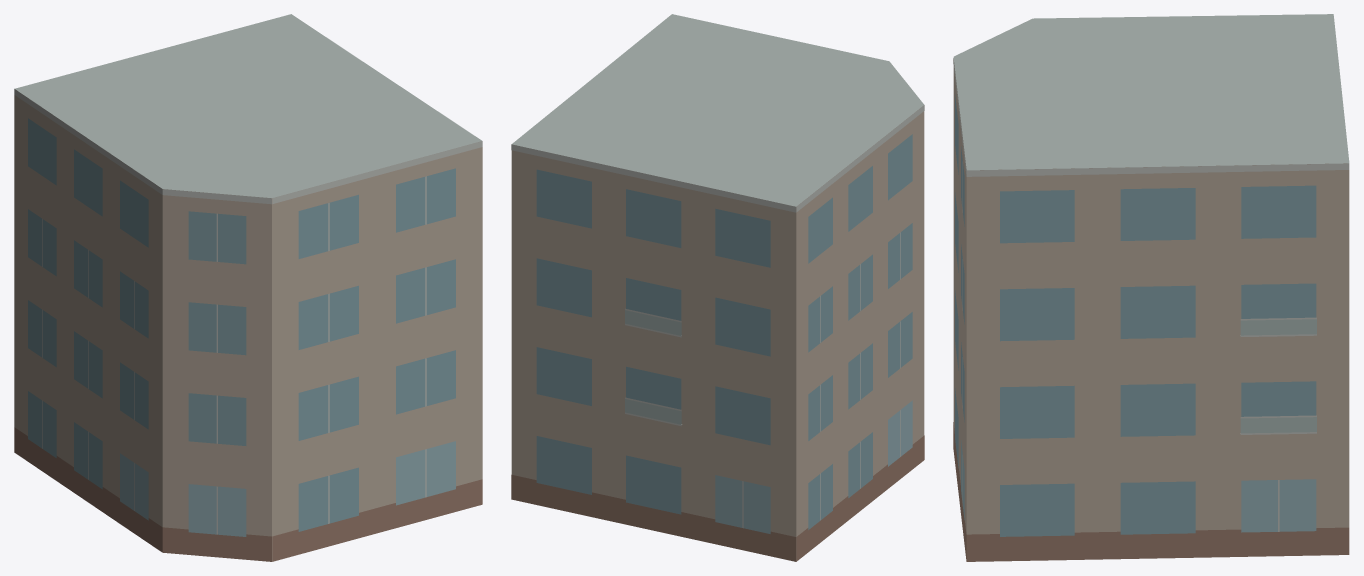
File: survey-upis-32945368.glb
3 views of the same model, side by side, from view 1: azimuth 30°, elevation 25°; view 2: azimuth 150°, elevation 25°; view 3: azimuth 270°, elevation 25° (orthographic). The views are drawn at different scales.
Parts seen in each view (by area): view 1: survey-upis-32945368.tmp; view 2: survey-upis-32945368.tmp; view 3: survey-upis-32945368.tmp.
Boxes of the visible parts, x1,y1,x2,y2 form: survey-upis-32945368.tmp: (14,14,482,561); survey-upis-32945368.tmp: (511,14,924,561); survey-upis-32945368.tmp: (953,14,1349,561).
Size of the model in its own units: 12.5 by 14.58 by 13.38.
